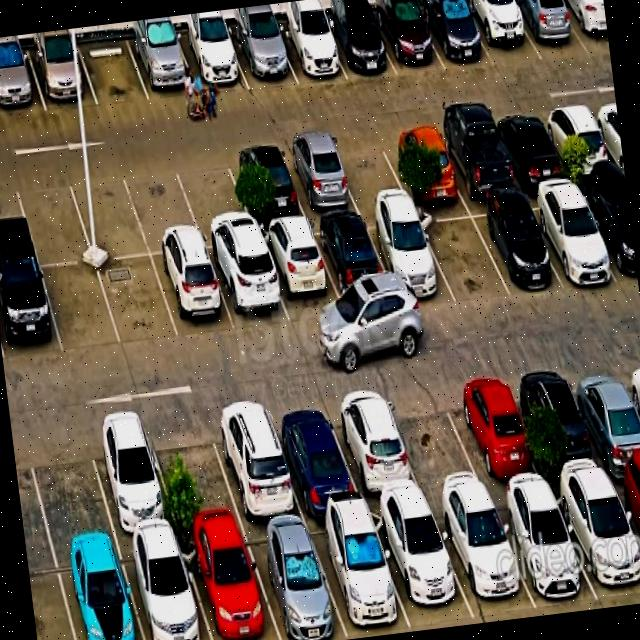empty: (381, 379, 489, 504), (144, 411, 243, 533), (22, 421, 115, 549), (415, 205, 509, 303), (172, 151, 257, 248), (66, 165, 150, 260), (12, 171, 93, 265), (123, 160, 204, 254), (97, 255, 178, 346), (41, 263, 120, 353), (328, 133, 409, 208), (77, 36, 149, 105)
occupied: (306, 512, 411, 639), (490, 489, 598, 609), (430, 496, 536, 618), (369, 506, 474, 627), (241, 522, 348, 640), (444, 371, 546, 494), (206, 398, 304, 525), (324, 387, 426, 505), (265, 396, 363, 517), (83, 415, 178, 539), (514, 363, 609, 486), (551, 478, 640, 607), (178, 528, 279, 640), (118, 535, 211, 640), (522, 185, 618, 286), (466, 197, 561, 295), (257, 222, 345, 325), (310, 215, 400, 315), (565, 358, 640, 477), (362, 211, 455, 305), (54, 542, 143, 640), (151, 250, 235, 339), (206, 244, 290, 331), (433, 118, 519, 197), (225, 145, 307, 226), (575, 180, 638, 283), (279, 138, 359, 217), (0, 263, 62, 361), (381, 125, 463, 199), (490, 109, 568, 185), (539, 103, 616, 177), (370, 1, 445, 76), (416, 0, 493, 70), (461, 0, 541, 67), (321, 10, 396, 79), (126, 32, 199, 100), (174, 29, 249, 95), (27, 42, 97, 111), (272, 19, 346, 83), (509, 0, 589, 59), (227, 24, 297, 89), (0, 48, 46, 116), (559, 0, 609, 53), (609, 472, 640, 550)
